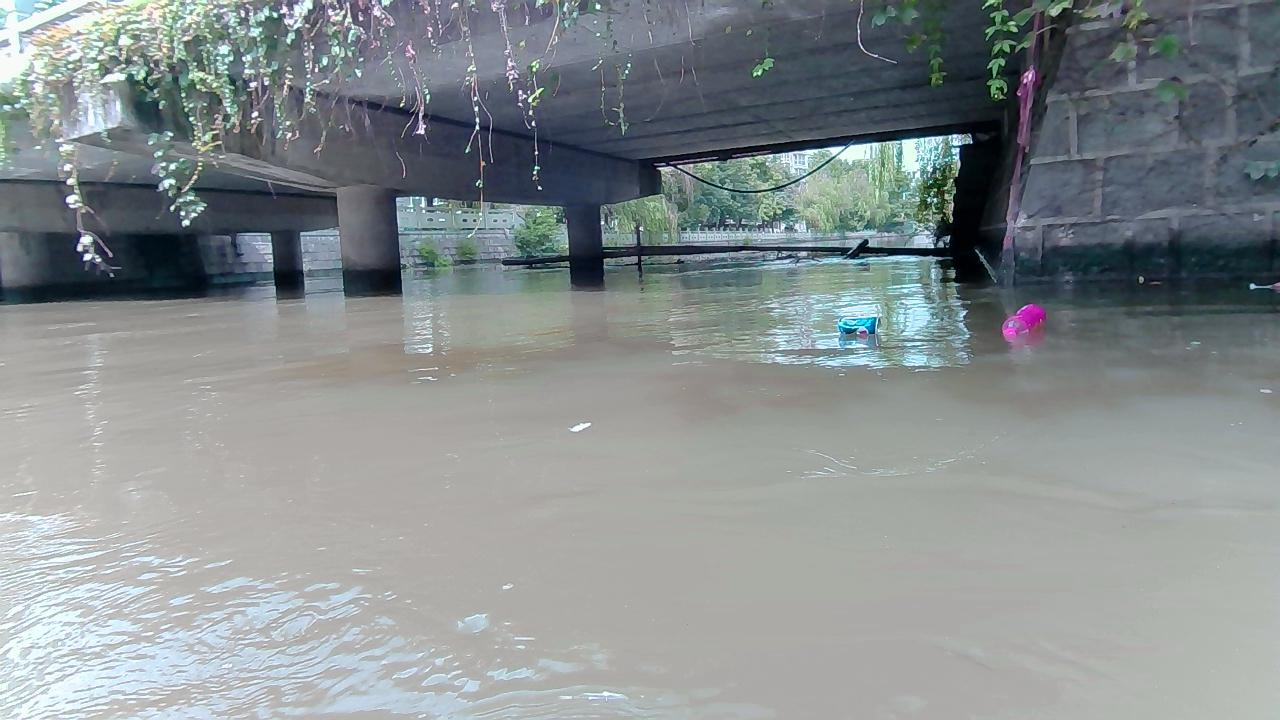Metal: (837, 315, 881, 335)
Plastic: (1001, 303, 1047, 336)
